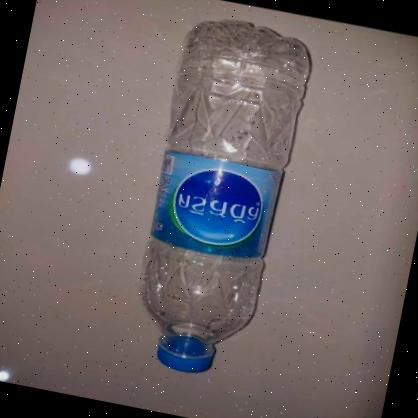bottle: (120, 10, 320, 387)
cap: (152, 336, 216, 376)
label: (146, 147, 287, 269)
